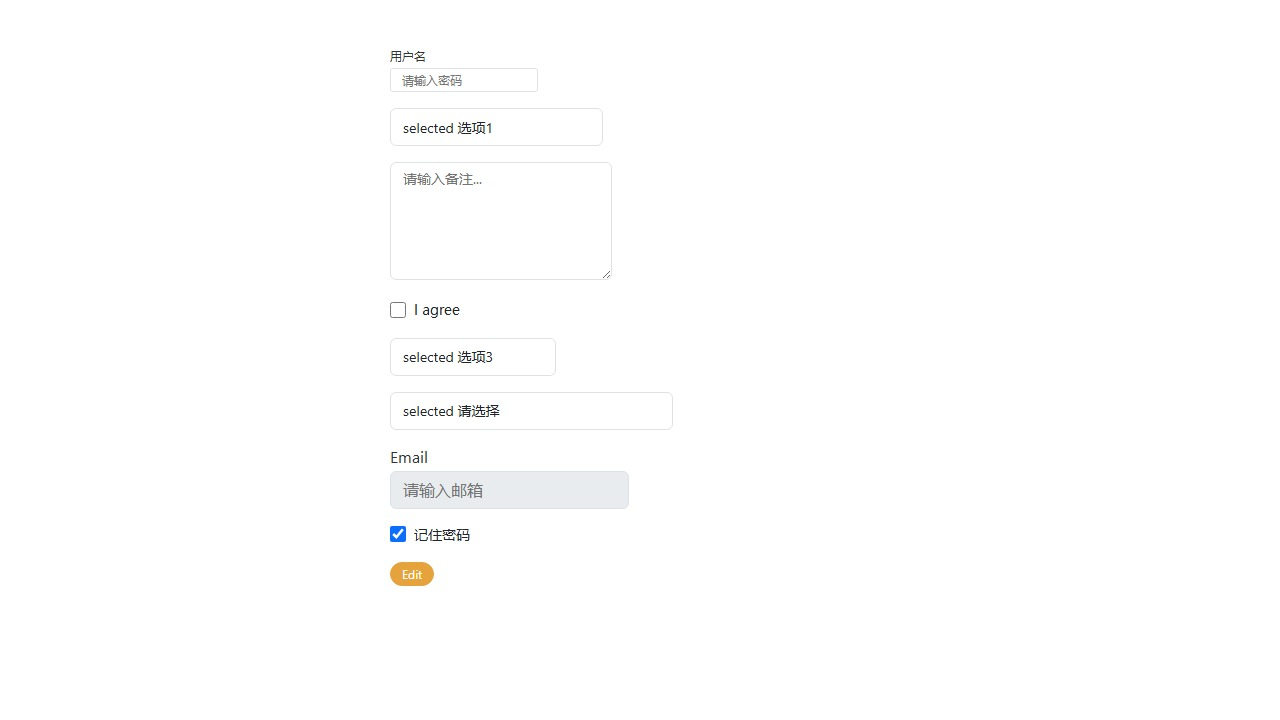button: (390, 562, 434, 586)
checkbox: (390, 526, 406, 542), (390, 302, 406, 317)
icon: (414, 525, 470, 544), (414, 300, 460, 319)
input: (390, 470, 629, 509), (390, 68, 538, 92)
radio: (390, 525, 470, 544), (390, 300, 460, 319)
select: (390, 391, 673, 430), (390, 108, 603, 146), (390, 338, 556, 376)
textarea: (390, 162, 612, 280)
